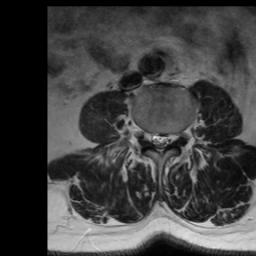CCS_normal: (156, 129, 163, 159)
LFS_normal: (171, 126, 180, 151)
LLS_normal: (163, 129, 171, 153)
RFS_normal: (142, 123, 150, 147)
RLS_normal: (149, 129, 156, 152)
